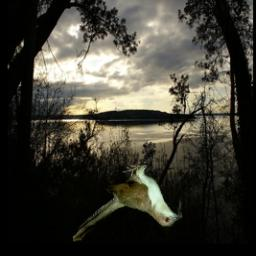Cuckoo: (73, 165, 182, 242)
